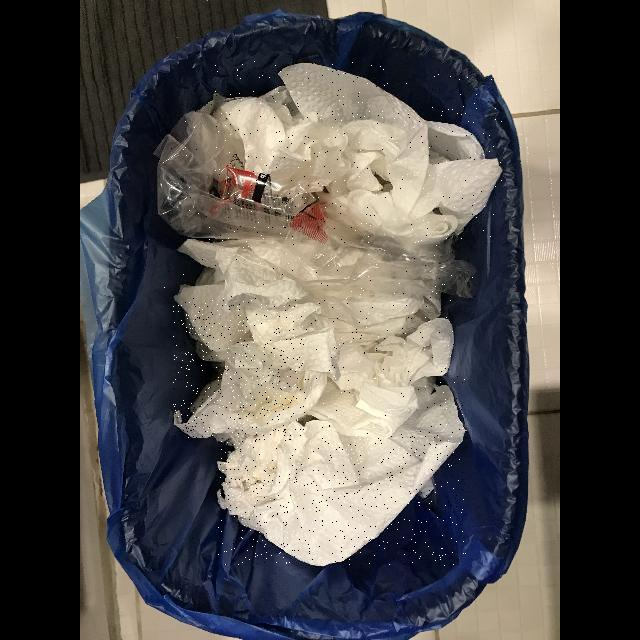paper: (215, 61, 503, 243), (217, 376, 466, 566), (174, 239, 341, 437), (306, 292, 454, 436)
plastic: (158, 104, 478, 298)
